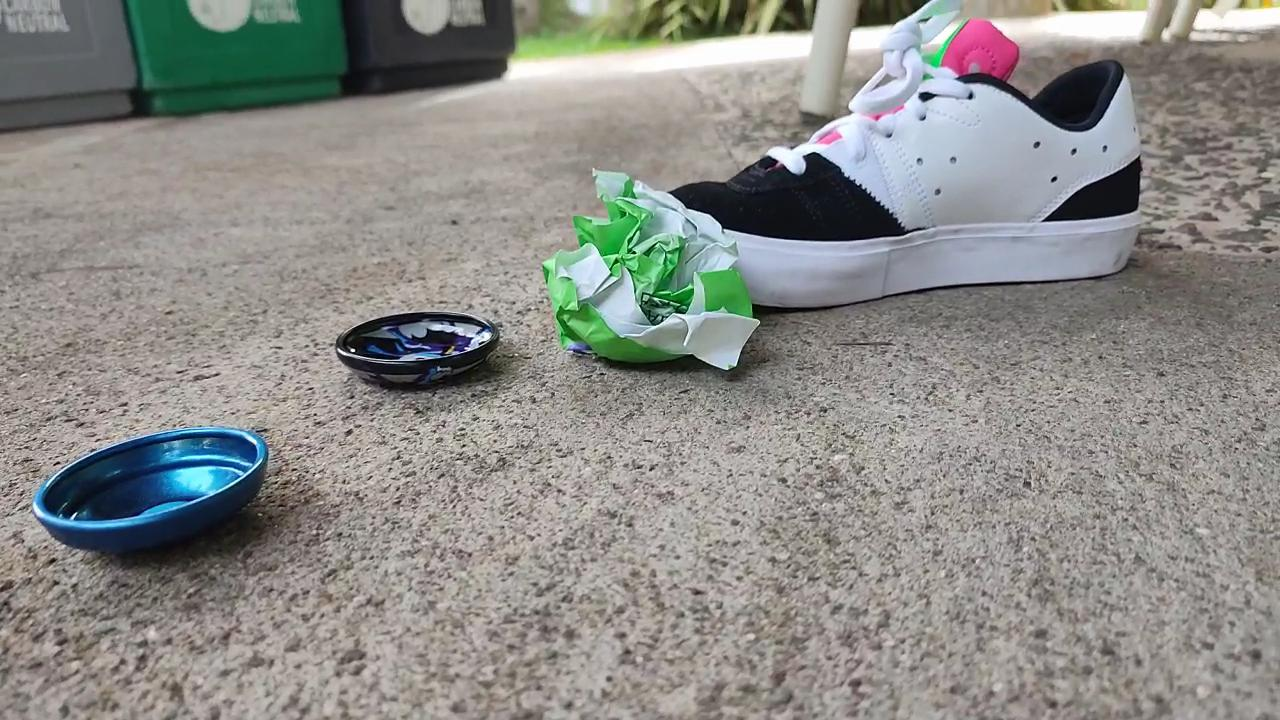Paper: (531, 160, 772, 388)
